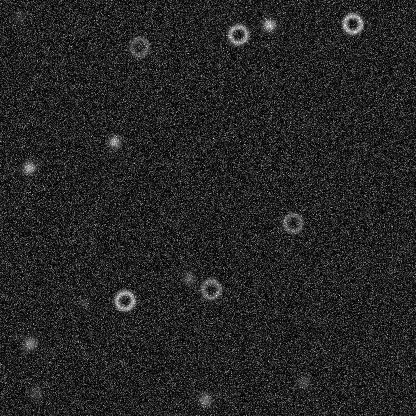Ring: (112, 288, 136, 312), (226, 22, 250, 46), (280, 210, 304, 234), (127, 34, 151, 58), (340, 11, 364, 35), (198, 277, 222, 301)
Spot: (27, 384, 43, 400), (21, 335, 37, 351), (181, 270, 197, 286), (106, 133, 122, 149), (260, 17, 276, 33), (21, 159, 37, 175), (11, 8, 27, 24), (76, 294, 92, 310), (295, 373, 311, 389), (196, 392, 212, 408)
